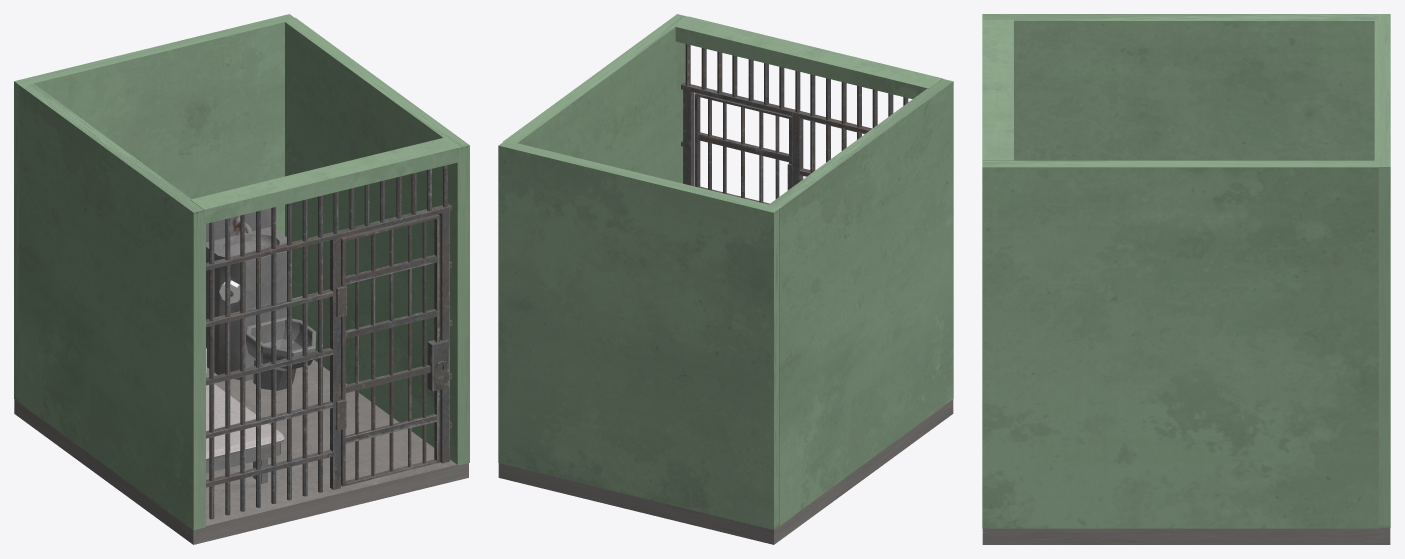
The model's file is a_jail_cell.glb.
The picture shows the model from 3 angles, left to right: view 1: azimuth 30°, elevation 25°; view 2: azimuth 150°, elevation 25°; view 3: azimuth 270°, elevation 25°; orthographic projection. The views are drawn at different scales.
Parts seen in each view (by area): view 1: Left_wall, right_wall, Back_wall, Bars, Floor, Door, Toilet, Ceiling_Trim, Bed; view 2: Back_wall, Left_wall, right_wall, Bars, Ceiling_Trim, Floor, Door; view 3: right_wall, Left_wall, Floor, Back_wall, Ceiling_Trim.
Boxes of the visible parts, box(x1,y1,x2,y2) form: Left_wall: box(19, 83, 205, 530); right_wall: box(283, 17, 469, 465); Back_wall: box(14, 14, 294, 401); Bars: box(206, 165, 452, 519); Floor: box(14, 359, 468, 544); Door: box(341, 214, 449, 486); Toilet: box(206, 208, 316, 390); Ceiling_Trim: box(190, 137, 458, 224); Bed: box(206, 384, 284, 483); Back_wall: box(498, 140, 778, 530); Left_wall: box(767, 79, 953, 526); right_wall: box(503, 14, 687, 183); Bars: box(681, 44, 908, 190); Ceiling_Trim: box(675, 16, 942, 98); Floor: box(498, 399, 953, 544); Door: box(694, 93, 791, 204); right_wall: box(982, 160, 1378, 528); Left_wall: box(982, 14, 1378, 160); Floor: box(982, 528, 1390, 544); Back_wall: box(1374, 14, 1390, 527); Ceiling_Trim: box(982, 19, 1013, 160).
Bounding box in the file's own units: 35.51 × 40.85 × 39.97.
Materials: 2 (2 with a texture image).
